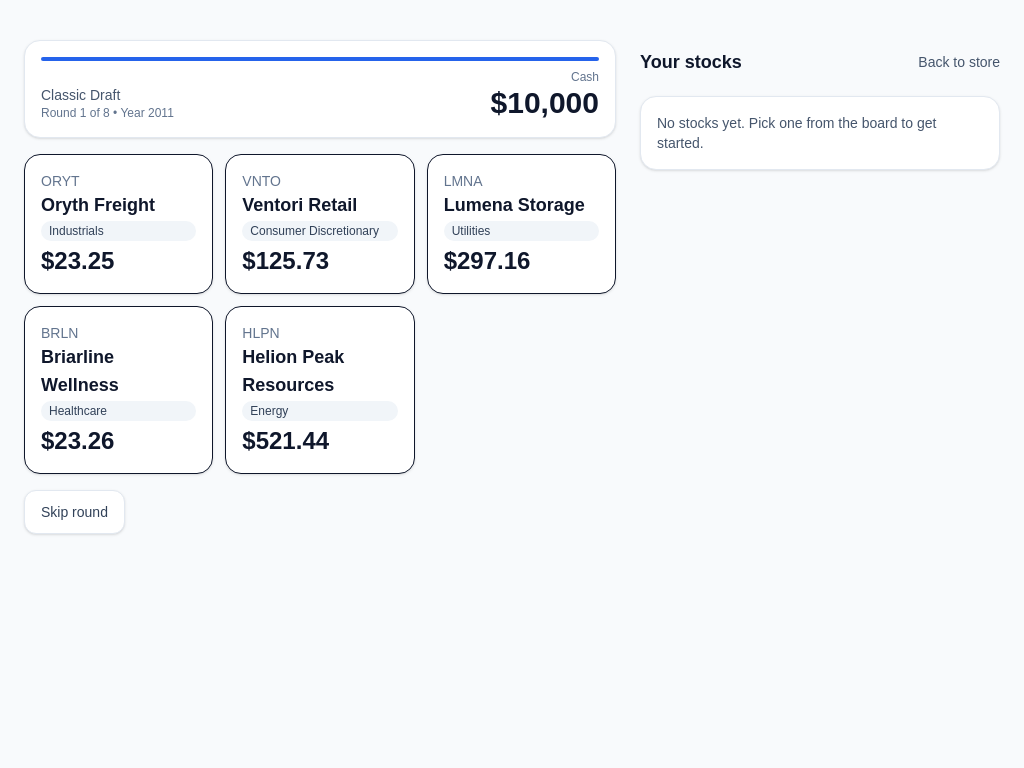
Test: PlayGame › shows the spend panel after selecting a stock
This screenshot has width=1024, height=768.
Click the button "ORYT Oryth Freight Industrials $23.25" at (119, 224), box [24,154,213,294]
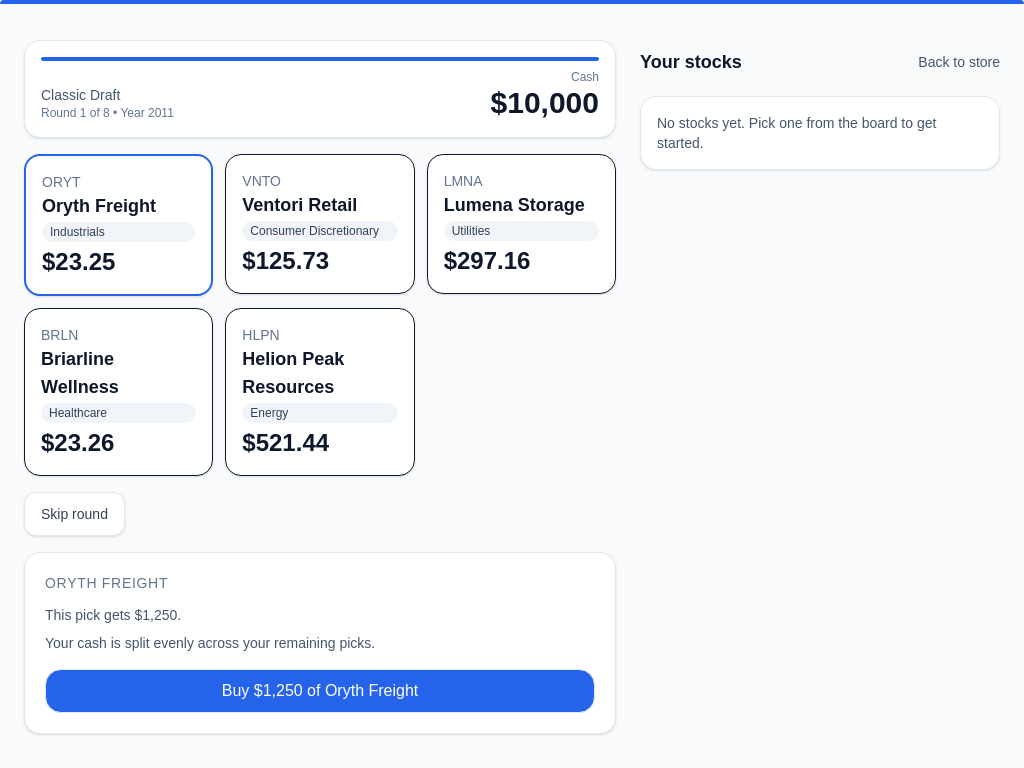
Result: the button "Buy $1,250 of Oryth Freight" is shown at [45,669,595,713]
